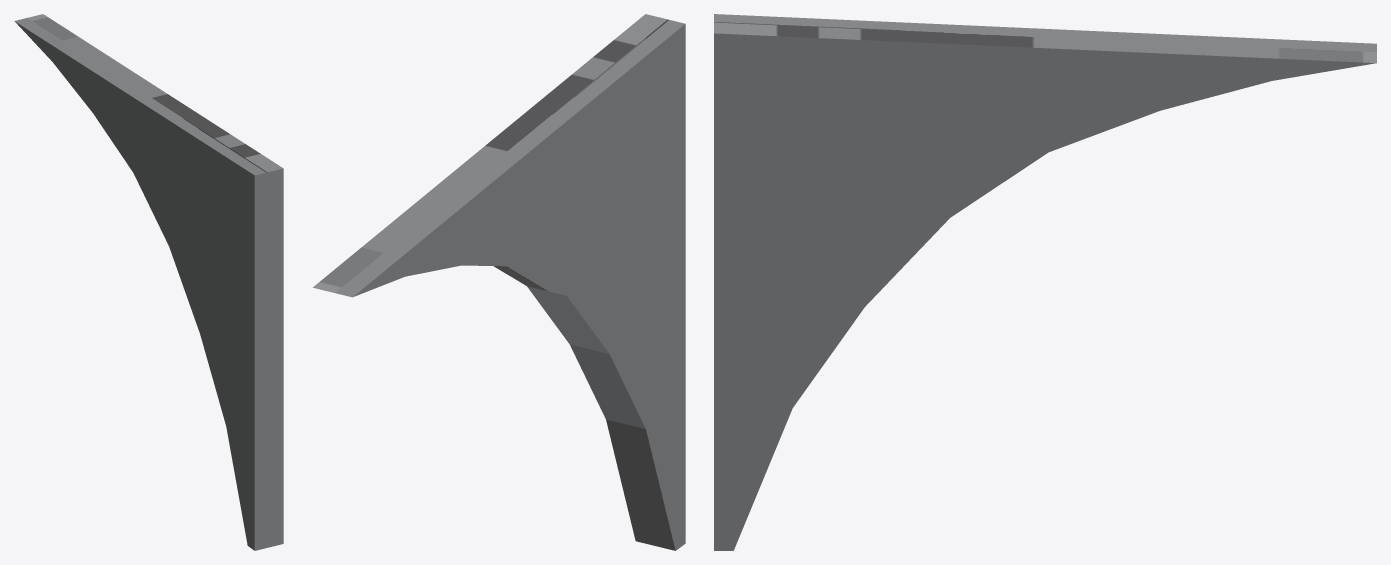
3 renders of one model, left to right at view 1: azimuth 30°, elevation 25°; view 2: azimuth 150°, elevation 25°; view 3: azimuth 270°, elevation 25°, orthographic. The views are drawn at different scales.
Bounding box in the file's own units: 0.0644 × 0.8004 × 0.9292.
